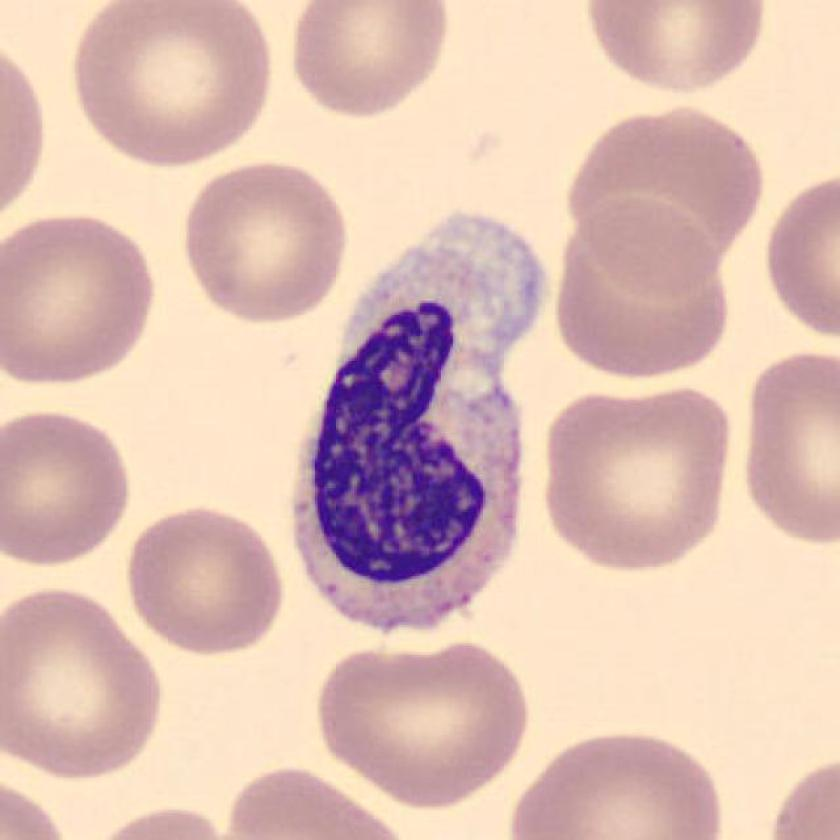neutrophil: (294, 214, 543, 630)
